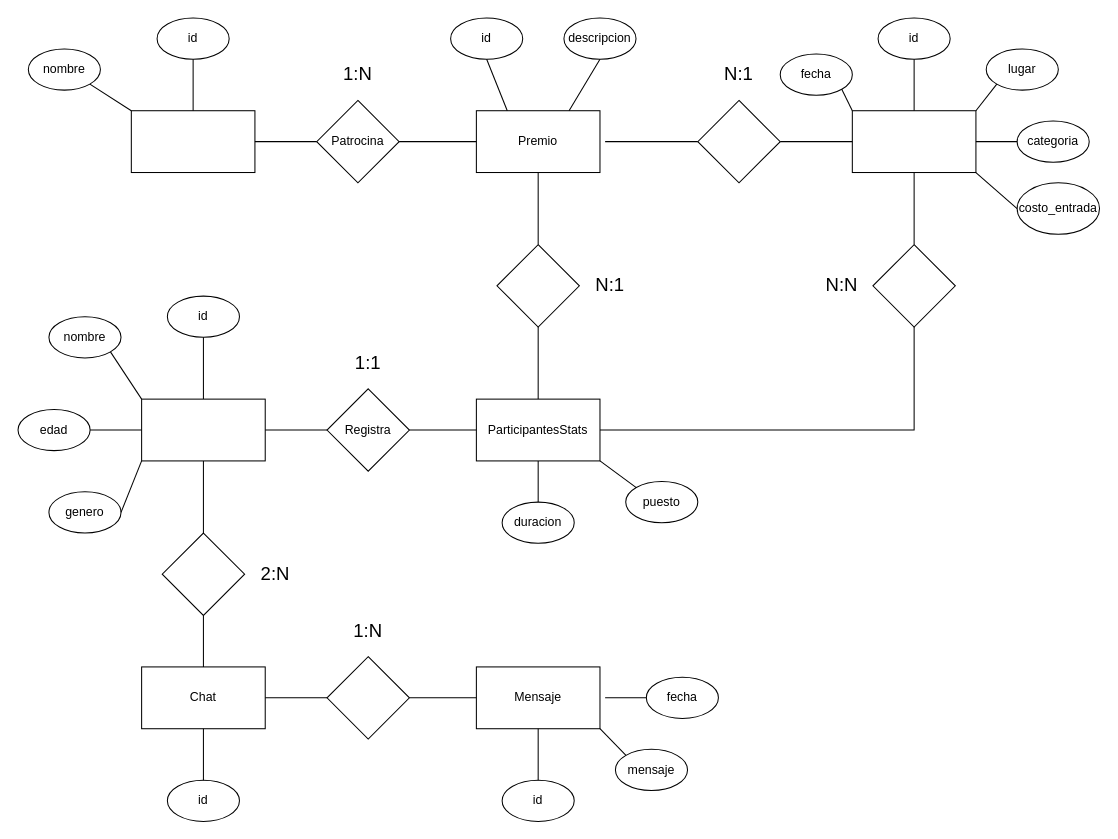
Image size: 1118x839. Some labels were removed from this diagram. Each missing label, with the box of its shape:
Carrera: (851, 110, 976, 173)
Concede: (697, 99, 780, 183)
Contiene: (326, 656, 409, 739)
Gana: (496, 244, 579, 327)
Participa: (872, 244, 955, 327)
Participa en: (161, 532, 245, 615)
Participantes: (141, 398, 265, 461)
Patrocinador: (130, 110, 255, 173)
